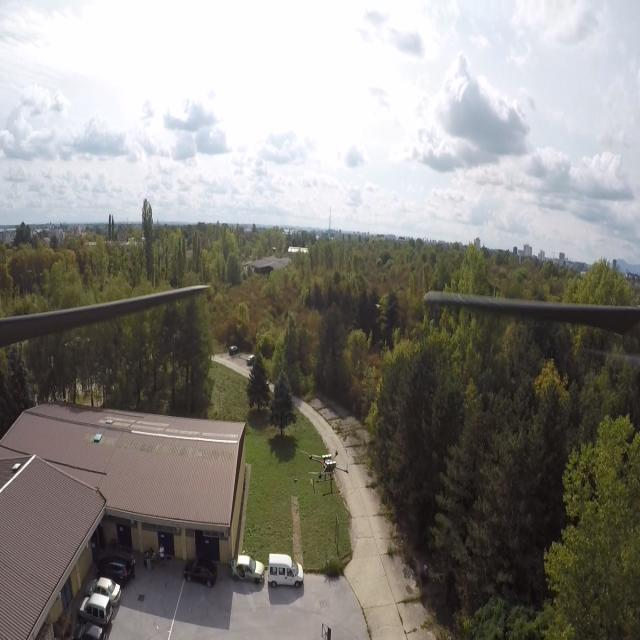UAV: (302, 442, 350, 498)
